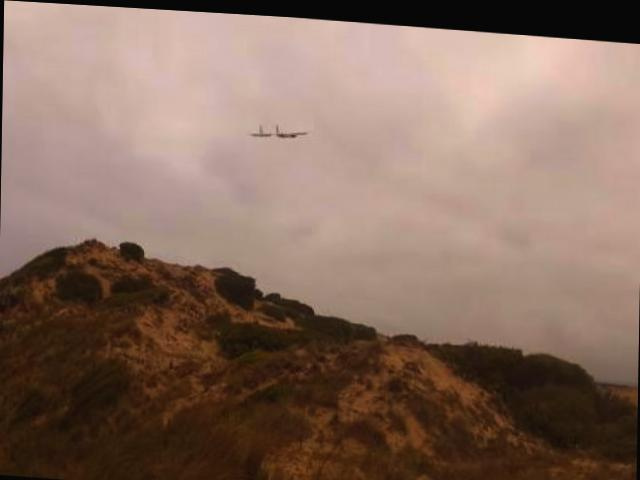uav: (241, 110, 315, 150)
